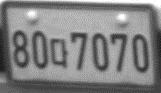0: (90, 32, 109, 70), (131, 33, 149, 73), (31, 30, 47, 69)
7: (109, 32, 128, 71), (69, 31, 87, 69)
8: (12, 30, 29, 68)
다: (50, 37, 68, 69)
